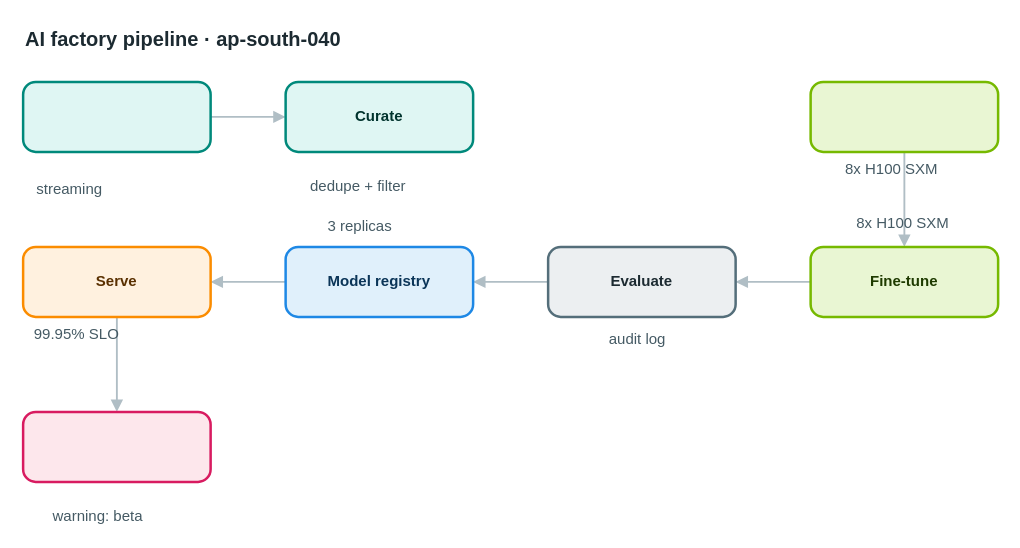
This 1020x548 diagram has some shape labels left out. Here are the shapes that lost their labels. From the top down, the centre of each, then its label:
At [116,116]: "Ingest".
At [904,116]: "Pretrain".
At [116,446]: "Guardrails".
